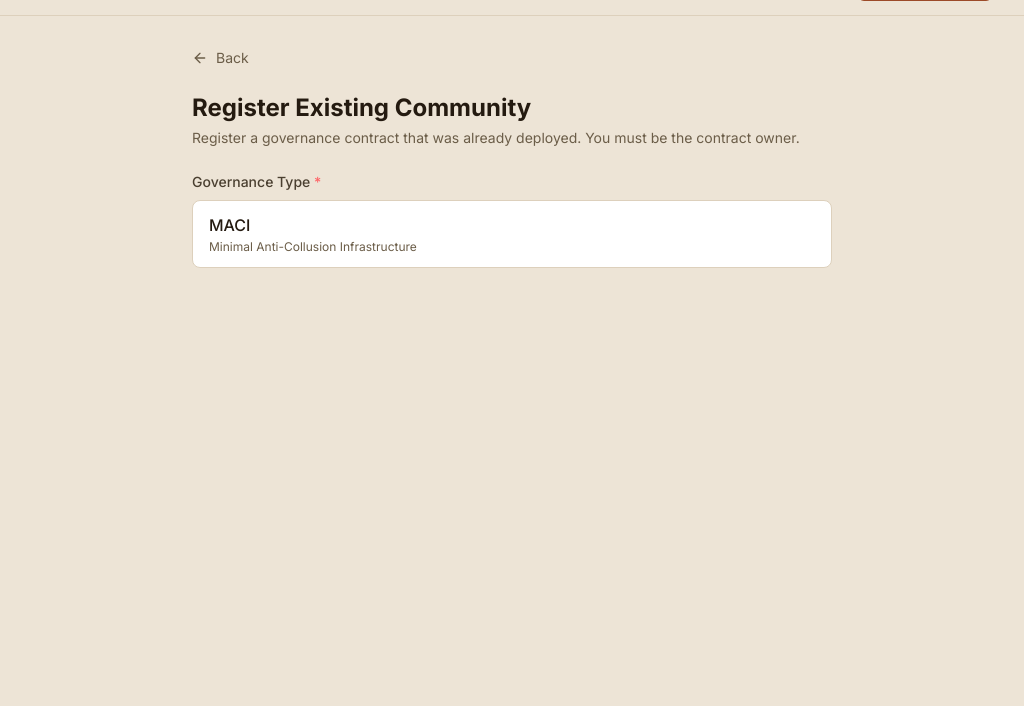
it: RegisterCommunityPage › shows the ownership error message without signing out on a 403
Click the text "MACI" at x=230, y=225, box [209,215,250,235]
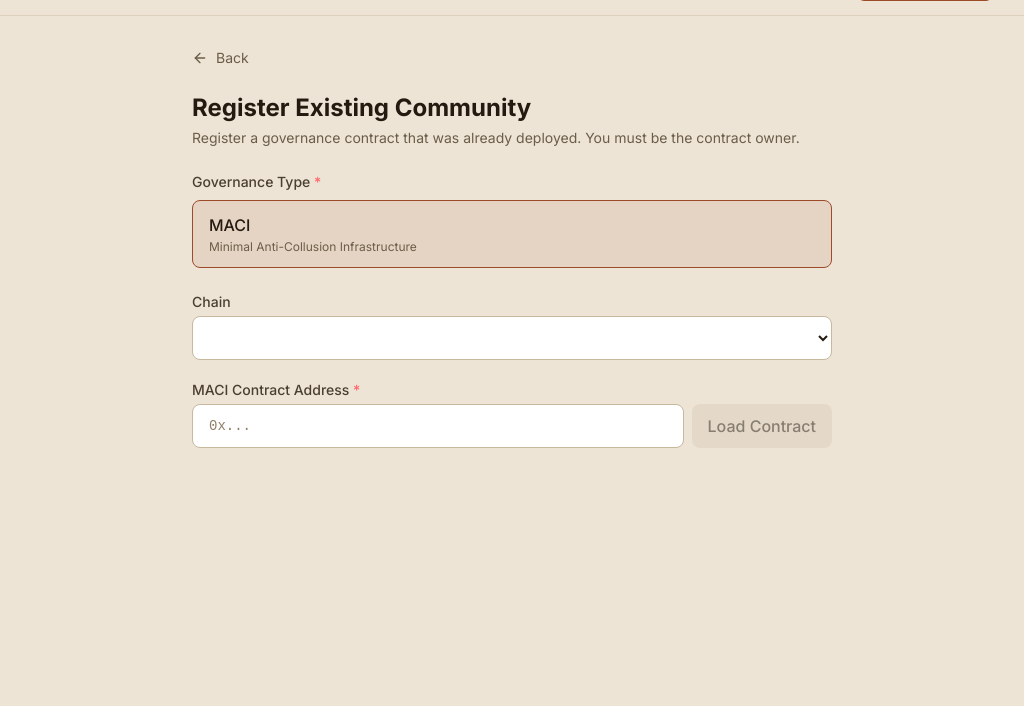
Type "0x1234567890123456789012345678901234567890" into the field with placeholder "0x..." at x=438, y=426, box [192,404,684,448]
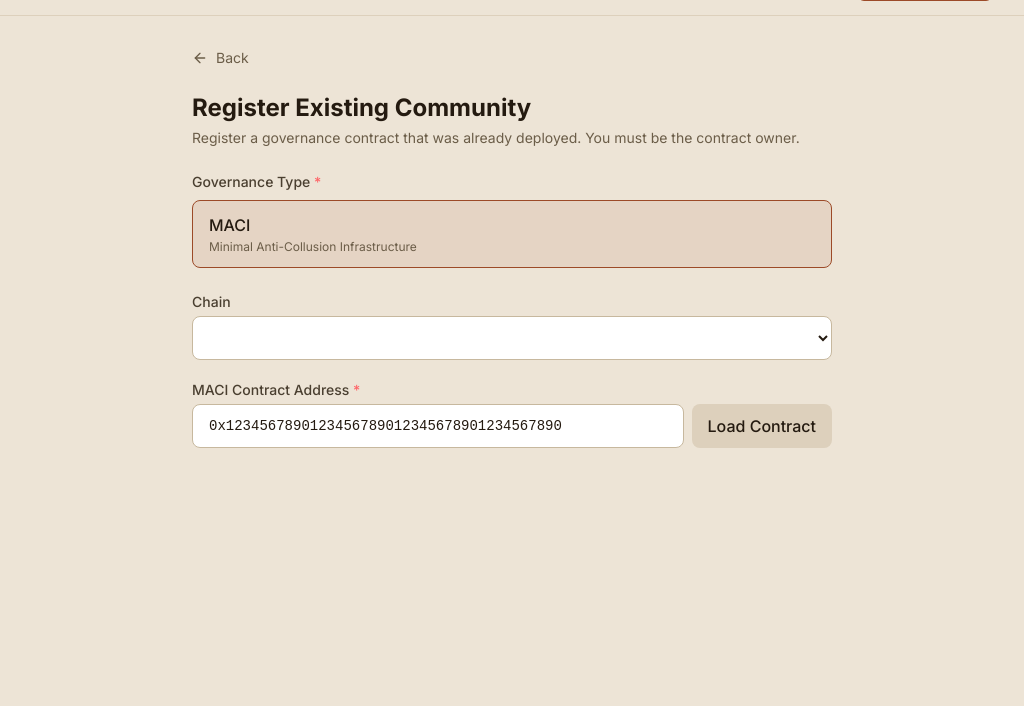
Click the button "Load Contract" at x=762, y=426, box [692,404,832,448]
(page scrolled)
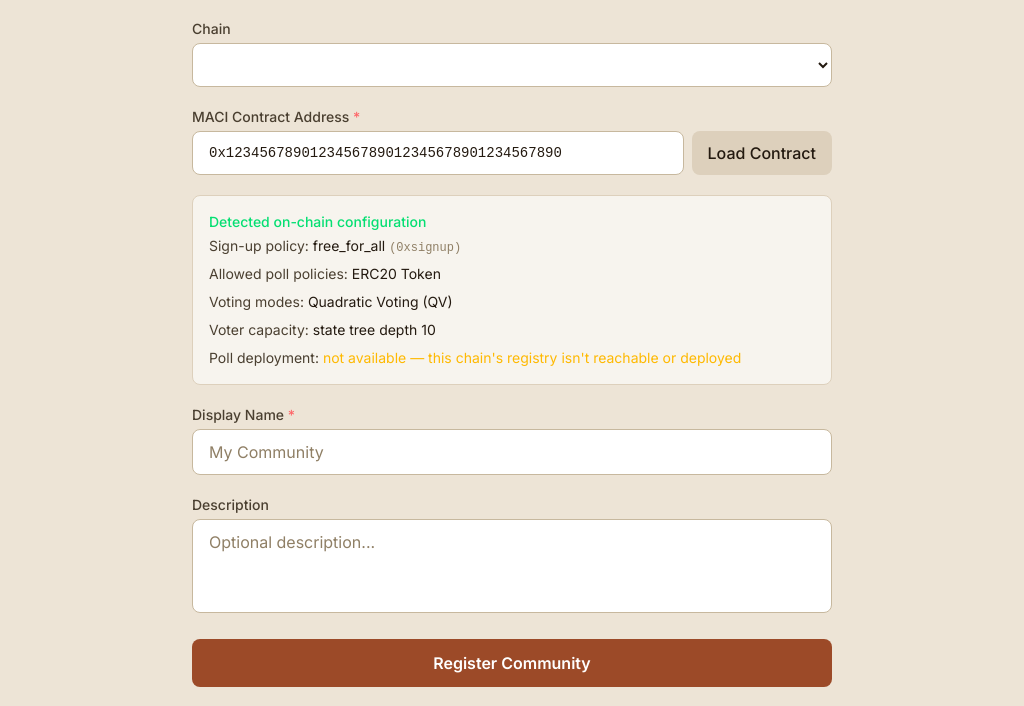
Check: the text "Detected on-chain configuration" is shown, box [209,213,426,230]
Type "Test Community" into the field with placeholder "My Community" at x=512, y=452, box [192,429,832,475]
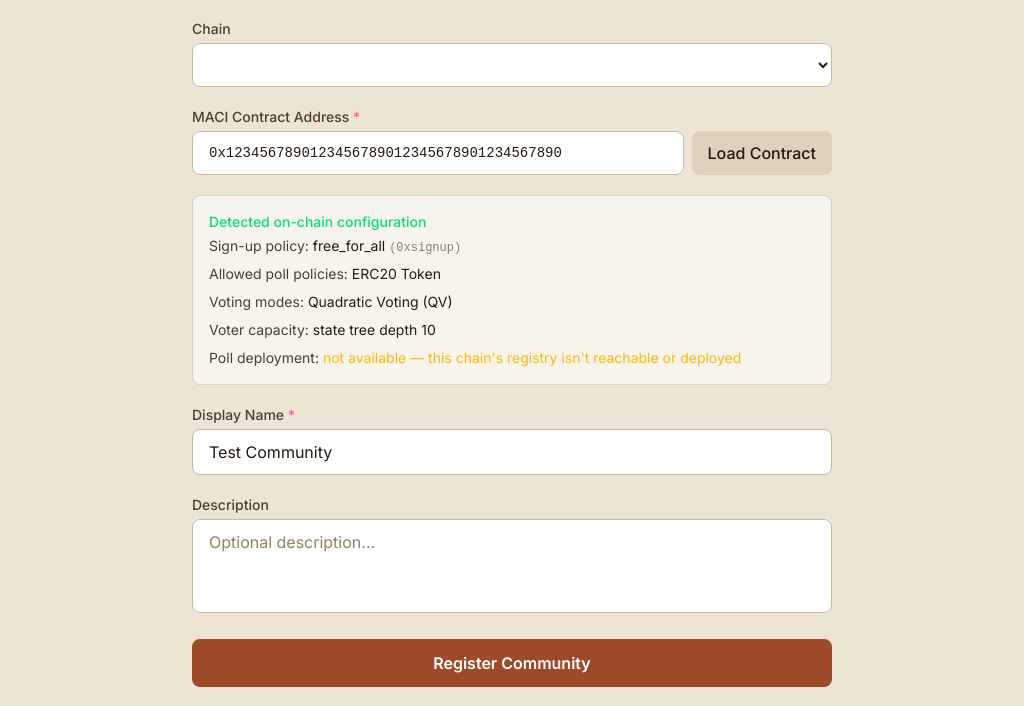
Click the button "Register Community" at x=512, y=663, box [192,639,832,687]
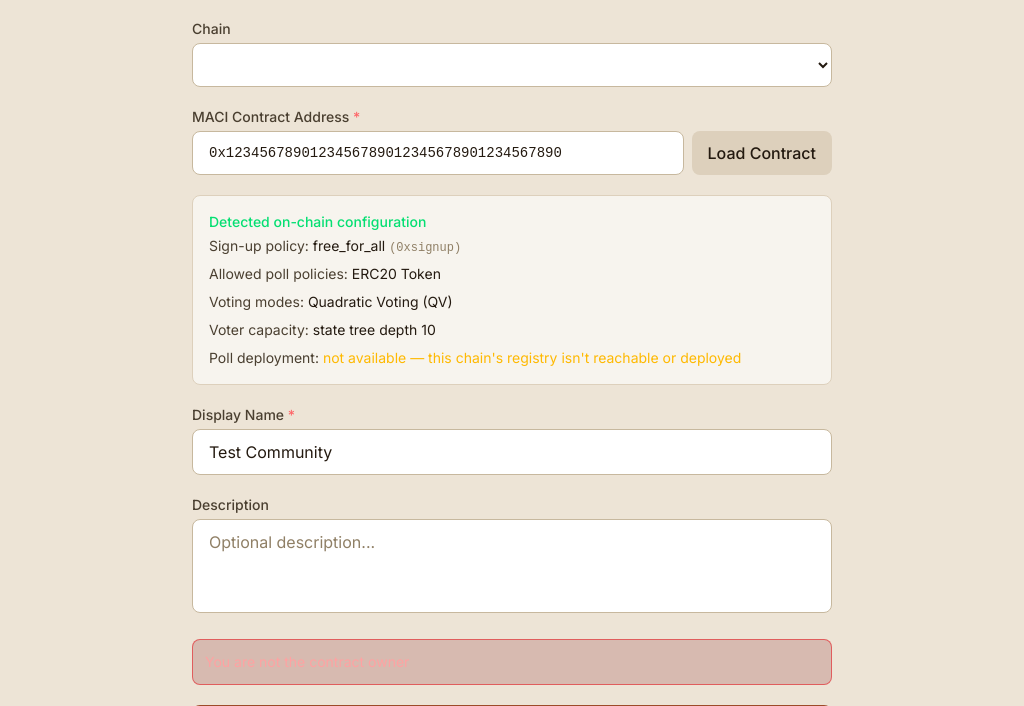
Check: the text "You are not the contract owner" is shown, box [192,639,832,685]
